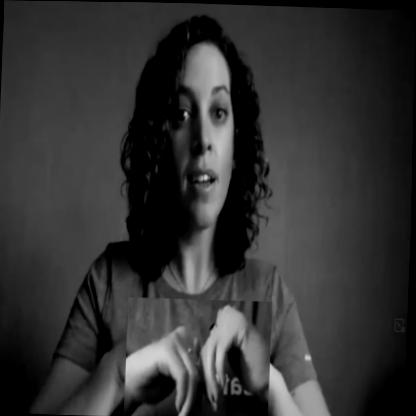HowAreYou: (125, 297, 273, 416)
